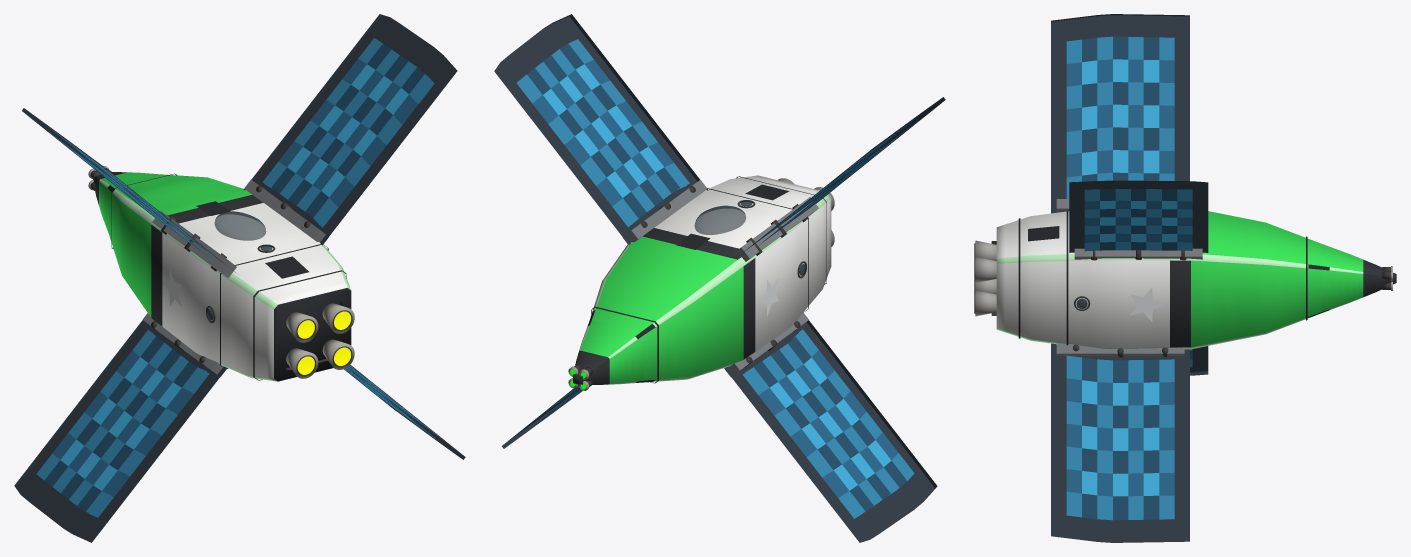
Rendered from Ship_Crosspanel_11.glb.
3 renders of one model, left to right at view 1: azimuth 30°, elevation 25°; view 2: azimuth 150°, elevation 25°; view 3: azimuth 270°, elevation 25°, orthographic. The views are drawn at different scales.
Parts seen in each view (by area): view 1: Fuselage_SquareBody, SolarPanelWing_TopRightRidge_RectangularPhotovoltaicGrid, SolarPanelWing_LowerLeftRidge_RectangularPhotovoltaicGrid, SolarPanelWing_TopLeftRidge_RectangularPhotovoltaicGrid, Canopy_DorsalLowSquareBubble, SolarPanelWing_TopLeftRidge_RootHingeClamp, SolarPanelWing_LowerRightRidge_RectangularPhotovoltaicGrid, SolarPanelWing_TopRightRidge_RootHingeClamp, EngineEmitter, Nose_SquareTaperedForwardSection, SolarPanelWing_LowerLeftRidge_RootHingeClamp, HullAccessPanel_TopAft; view 2: Fuselage_SquareBody, SolarPanelWing_TopRightRidge_RectangularPhotovoltaicGrid, SolarPanelWing_LowerLeftRidge_RectangularPhotovoltaicGrid, Nose_SquareTaperedForwardSection, SolarPanelWing_TopLeftRidge_RectangularPhotovoltaicGrid, Canopy_DorsalLowSquareBubble, SolarPanelWing_TopLeftRidge_RootHingeClamp, SolarPanelWing_TopRightRidge_RootHingeClamp, SolarPanelWing_LowerRightRidge_RectangularPhotovoltaicGrid, SolarPanelWing_LowerLeftRidge_RootHingeClamp; view 3: Fuselage_SquareBody, SolarPanelWing_LowerRightRidge_RectangularPhotovoltaicGrid, SolarPanelWing_TopLeftRidge_RectangularPhotovoltaicGrid, SolarPanelWing_TopRightRidge_RectangularPhotovoltaicGrid, Nose_SquareTaperedForwardSection, SolarPanelWing_LowerRightRidge_RootHingeClamp, SolarPanelWing_TopRightRidge_RootHingeClamp, SolarPanelWing_LowerLeftRidge_RectangularPhotovoltaicGrid, HullFlatSideDecal_Primary_StarboardFlatSide_Star_Star_WhiteF.
Part boxes in pixels (x1,y1,x2,y2): Fuselage_SquareBody: (109,174,351,381); SolarPanelWing_TopRightRidge_RectangularPhotovoltaicGrid: (243,14,457,245); SolarPanelWing_LowerLeftRidge_RectangularPhotovoltaicGrid: (14,320,226,542); SolarPanelWing_TopLeftRidge_RectangularPhotovoltaicGrid: (22,108,235,272); Canopy_DorsalLowSquareBubble: (214,211,266,240); SolarPanelWing_TopLeftRidge_RootHingeClamp: (152,211,236,277); SolarPanelWing_LowerRightRidge_RectangularPhotovoltaicGrid: (344,365,465,459); SolarPanelWing_TopRightRidge_RootHingeClamp: (244,179,328,244); EngineEmitter: (297,311,351,374); Nose_SquareTaperedForwardSection: (93,172,159,233); SolarPanelWing_LowerLeftRidge_RootHingeClamp: (142,313,226,376); HullAccessPanel_TopAft: (265,256,308,278); Fuselage_SquareBody: (589,175,831,382); SolarPanelWing_TopRightRidge_RectangularPhotovoltaicGrid: (494,14,708,245); SolarPanelWing_LowerLeftRidge_RectangularPhotovoltaicGrid: (724,320,937,542); Nose_SquareTaperedForwardSection: (573,320,643,384); SolarPanelWing_TopLeftRidge_RectangularPhotovoltaicGrid: (738,97,945,256); Canopy_DorsalLowSquareBubble: (694,205,745,234); SolarPanelWing_TopLeftRidge_RootHingeClamp: (734,197,818,261); SolarPanelWing_TopRightRidge_RootHingeClamp: (623,180,707,243); SolarPanelWing_LowerRightRidge_RectangularPhotovoltaicGrid: (502,384,582,448); SolarPanelWing_LowerLeftRidge_RootHingeClamp: (724,312,808,377); Fuselage_SquareBody: (996,211,1322,349); SolarPanelWing_LowerRightRidge_RectangularPhotovoltaicGrid: (1051,343,1189,542); SolarPanelWing_TopLeftRidge_RectangularPhotovoltaicGrid: (1051,14,1189,213); SolarPanelWing_TopRightRidge_RectangularPhotovoltaicGrid: (1069,180,1208,252); Nose_SquareTaperedForwardSection: (1322,244,1396,312); SolarPanelWing_LowerRightRidge_RootHingeClamp: (1056,343,1184,356); SolarPanelWing_TopRightRidge_RootHingeClamp: (1074,248,1202,259); SolarPanelWing_LowerLeftRidge_RectangularPhotovoltaicGrid: (1190,346,1208,375); HullFlatSideDecal_Primary_StarboardFlatSide_Star_Star_WhiteF: (1130,288,1165,321).
Size of the model in its own units: 6.27 by 6.27 by 6.62.
